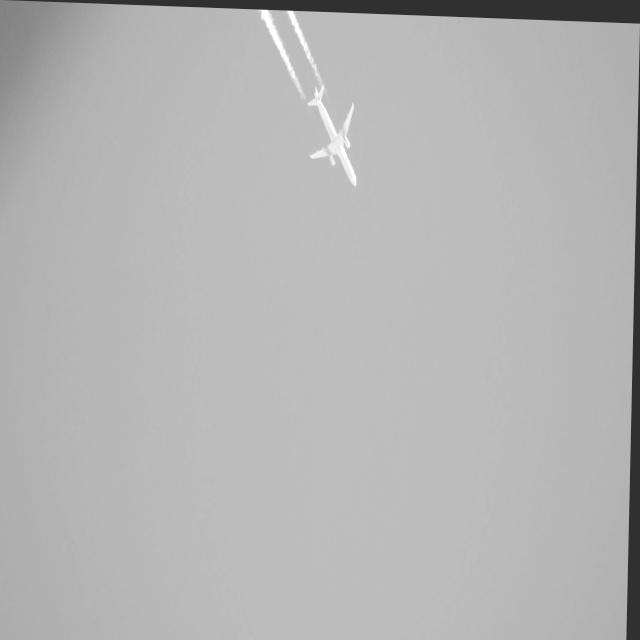aeroplane: (306, 74, 367, 186)
